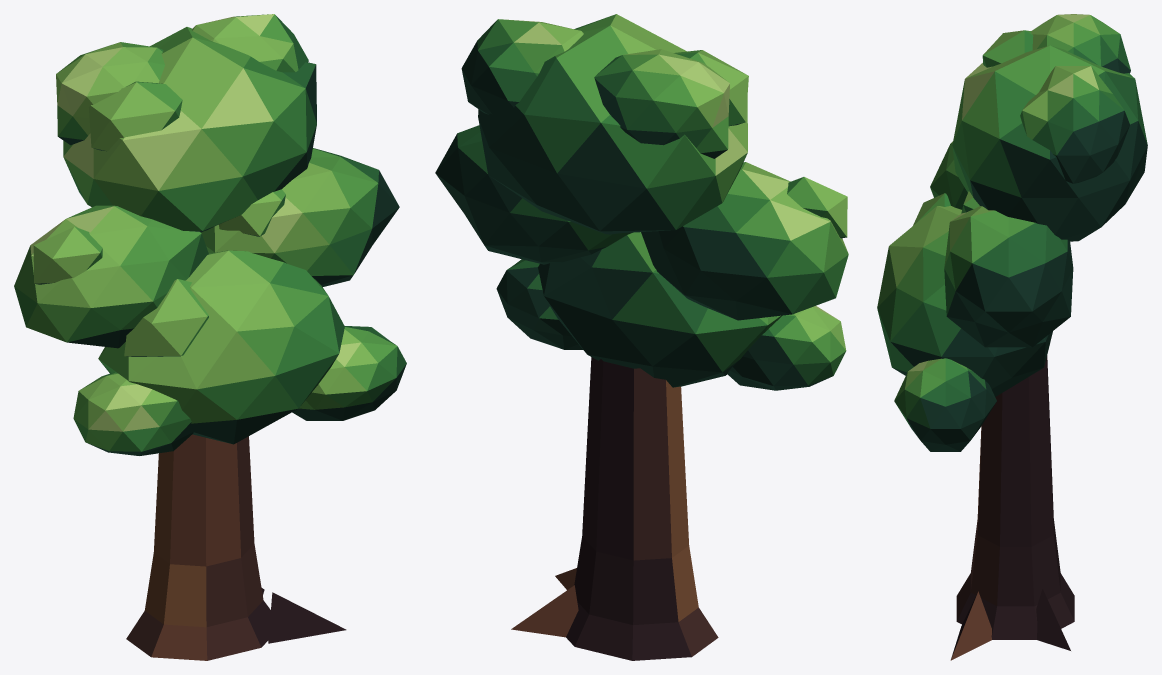
Rendered from tree_tree0.glb.
The picture shows the model from 3 angles, left to right: view 1: azimuth 30°, elevation 25°; view 2: azimuth 150°, elevation 25°; view 3: azimuth 270°, elevation 25°; orthographic projection. The views are drawn at different scales.
Parts seen in each view (by area): view 1: tree0; view 2: tree0; view 3: tree0.
Boxes of the visible parts, x1,y1,x2,y2 form: tree0: (14, 14, 406, 660); tree0: (435, 14, 848, 660); tree0: (877, 14, 1147, 660).
Bounding box in the file's own units: 0.9965 × 1.52 × 0.6567.
